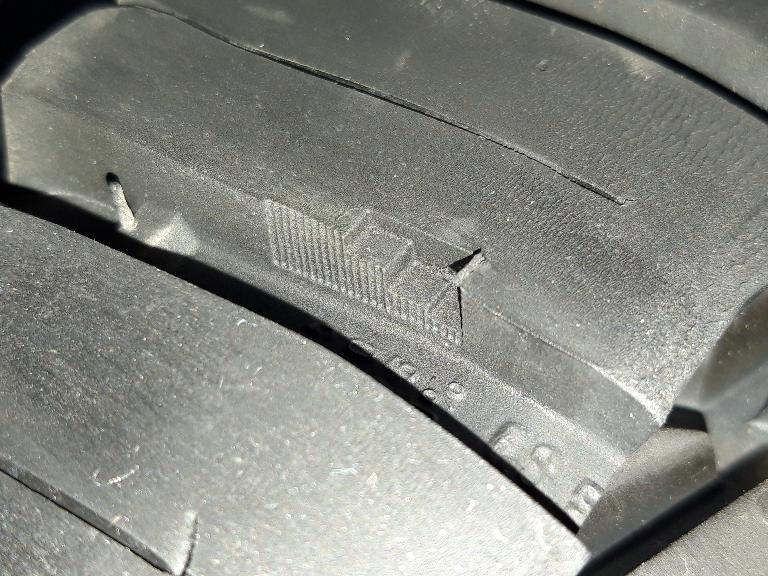temoin:75: (300, 192, 492, 360)
